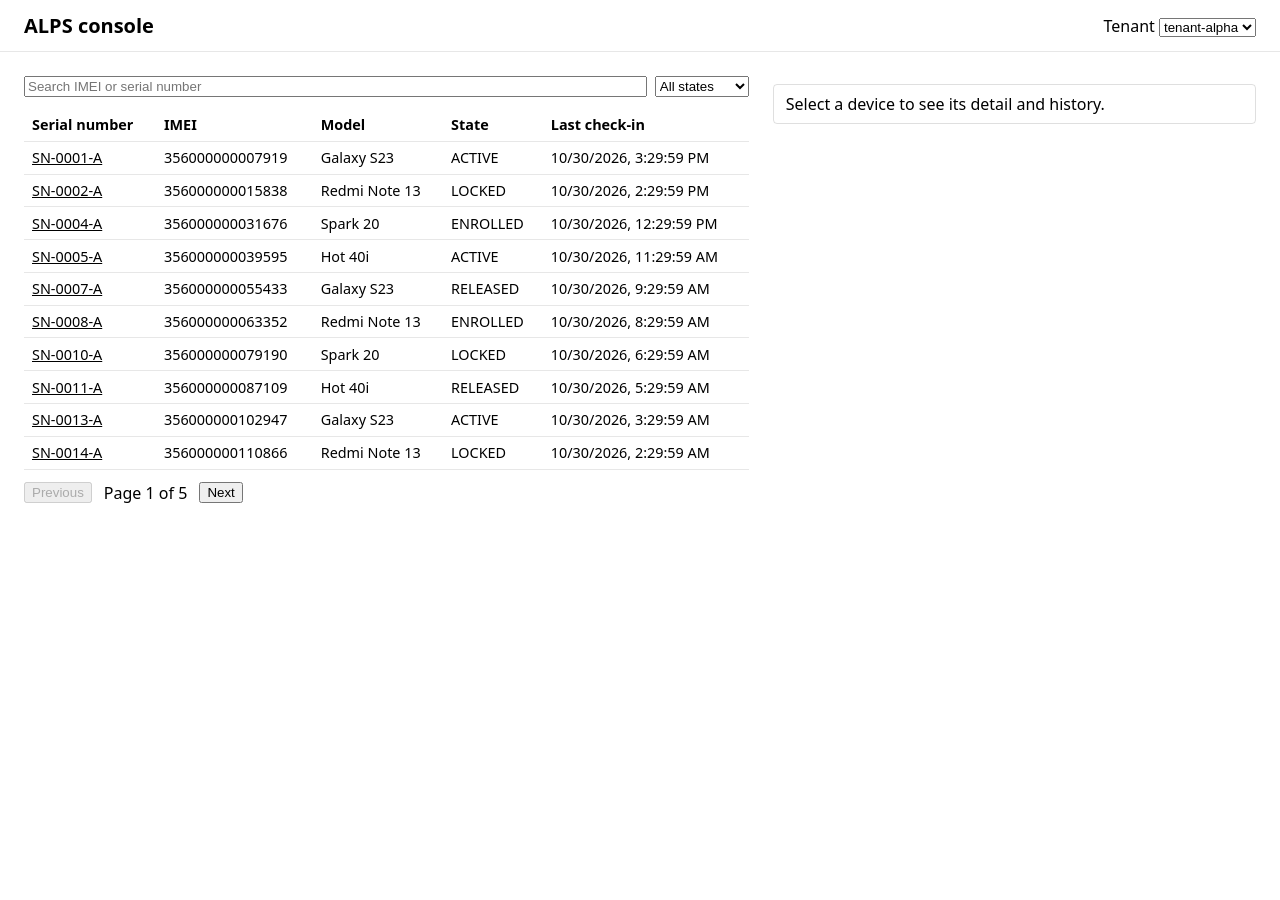
Device console › switches to another tenant’s devices without carrying anything over
Expected: the table named "Device list" is shown, 24,109 -> 749,470
Type "SN-0001-A" into the search field named "Search devices" at (335, 86), box 24,76 -> 647,97
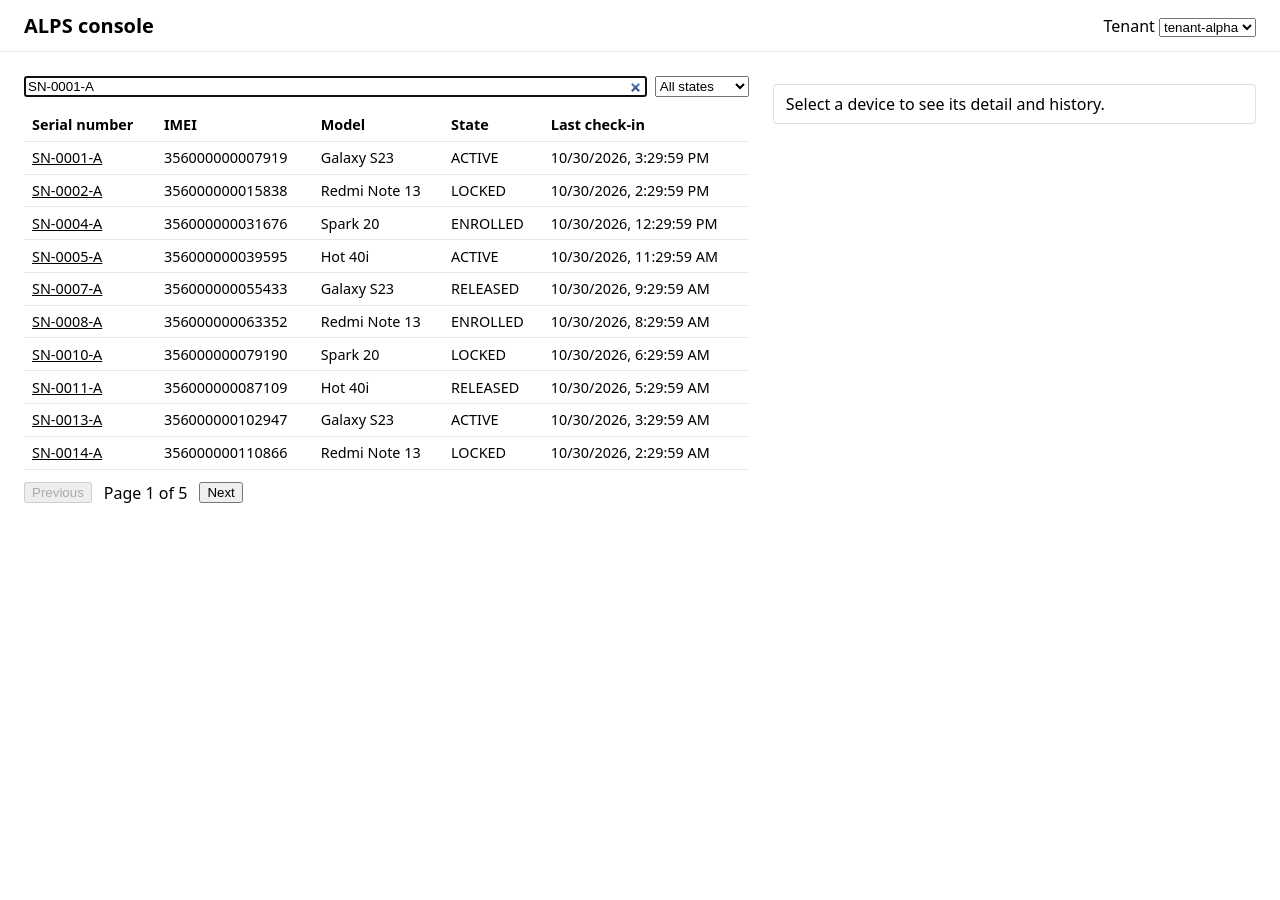
Click the button "SN-0001-A" at (67, 158), box 32,148 -> 102,167
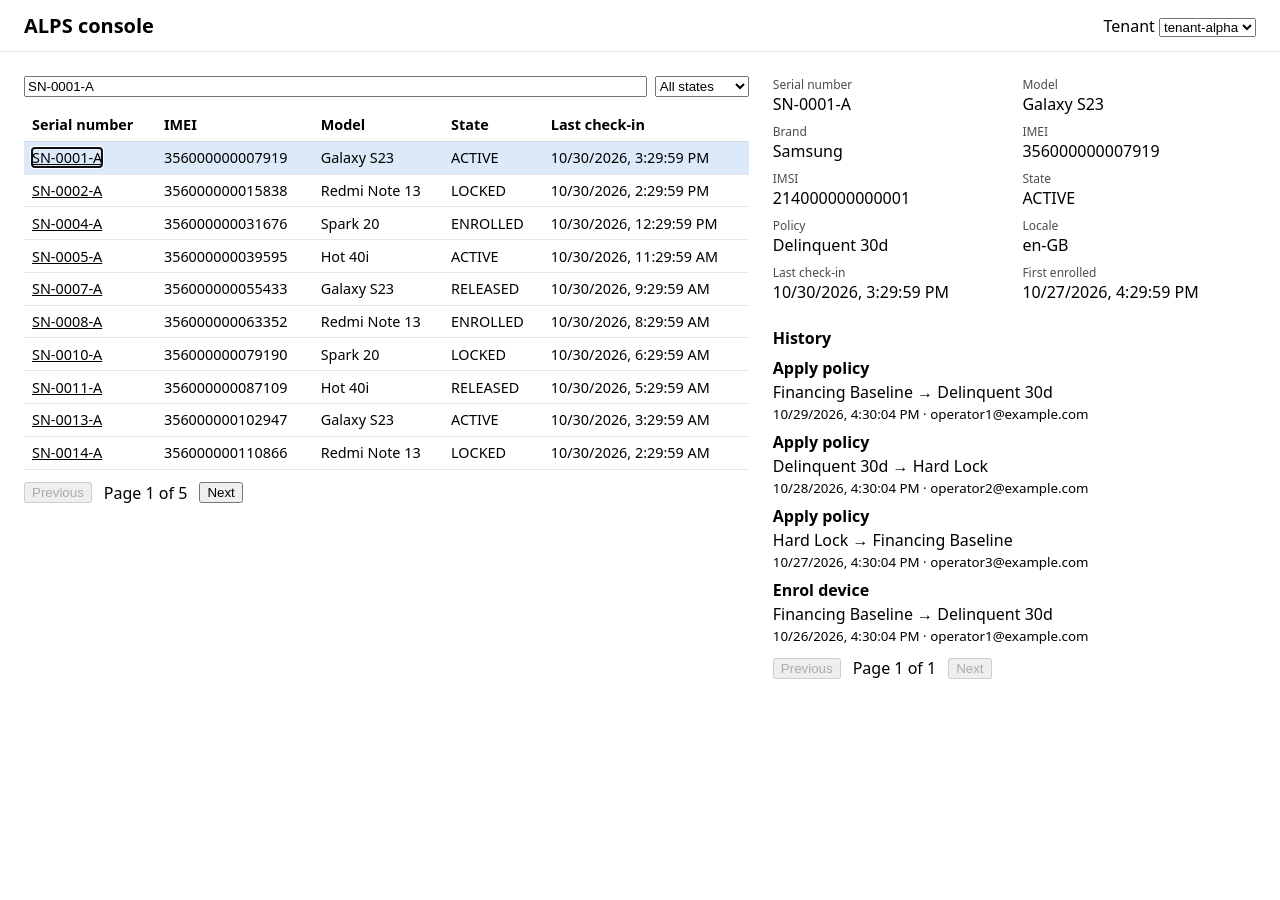
Now the text "Serial number" is shown, box 773,76 -> 852,93
Select "tenant-beta" in the dropdown labelled "Tenant" at (1208, 27), box 1159,18 -> 1256,36
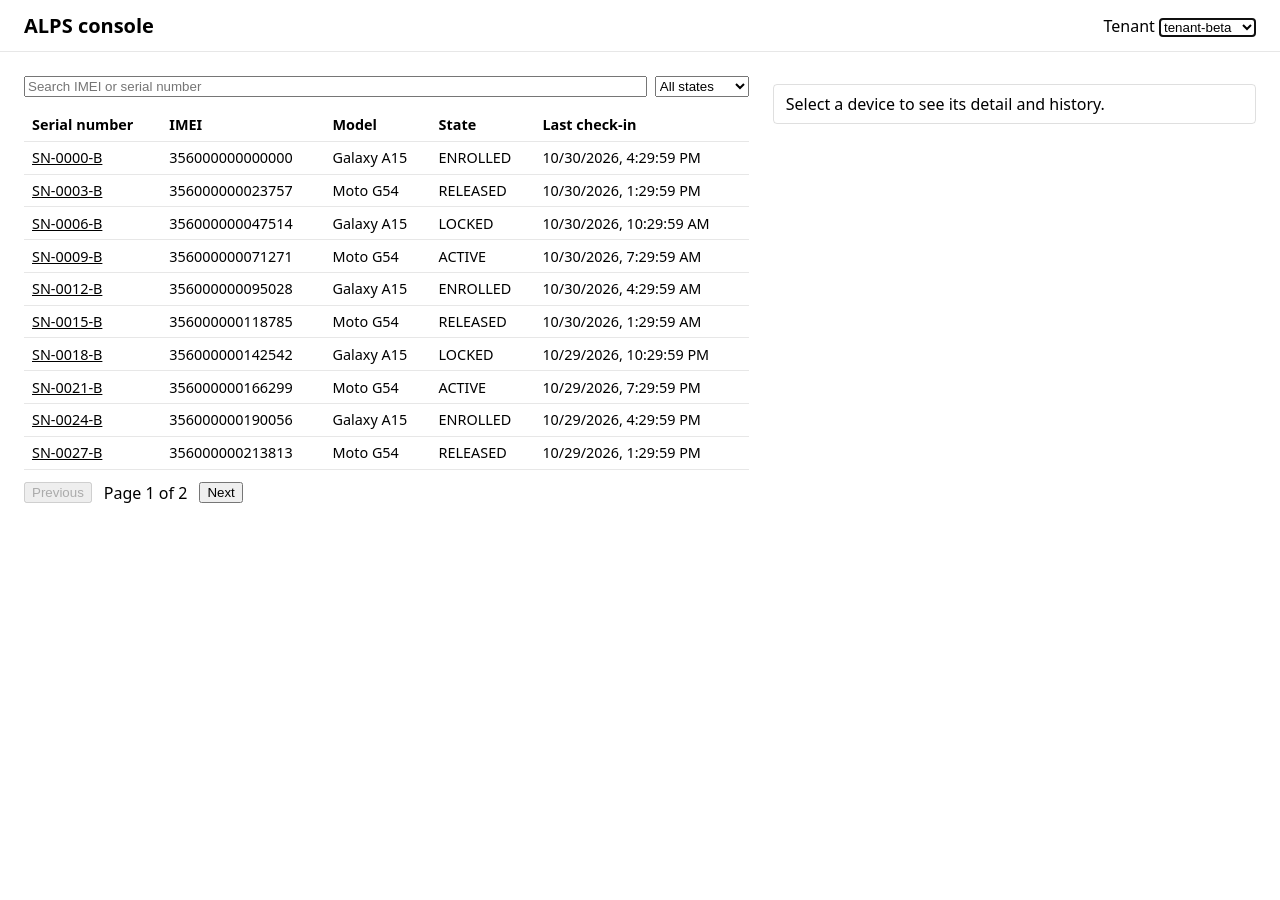
Now the text "Select a device to see its detail and history." is shown, box 773,84 -> 1256,124
Now the text "Page 1 of 2" is shown, box 104,482 -> 187,504
Now the search field named "Search devices" is empty, box 24,76 -> 647,97
